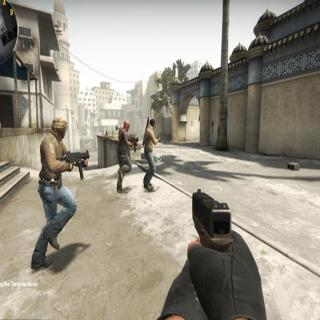T-Body: (27, 114, 77, 270), (115, 117, 133, 192), (141, 116, 157, 192)
T-Head: (50, 112, 69, 142), (148, 116, 157, 130), (122, 118, 130, 132)
